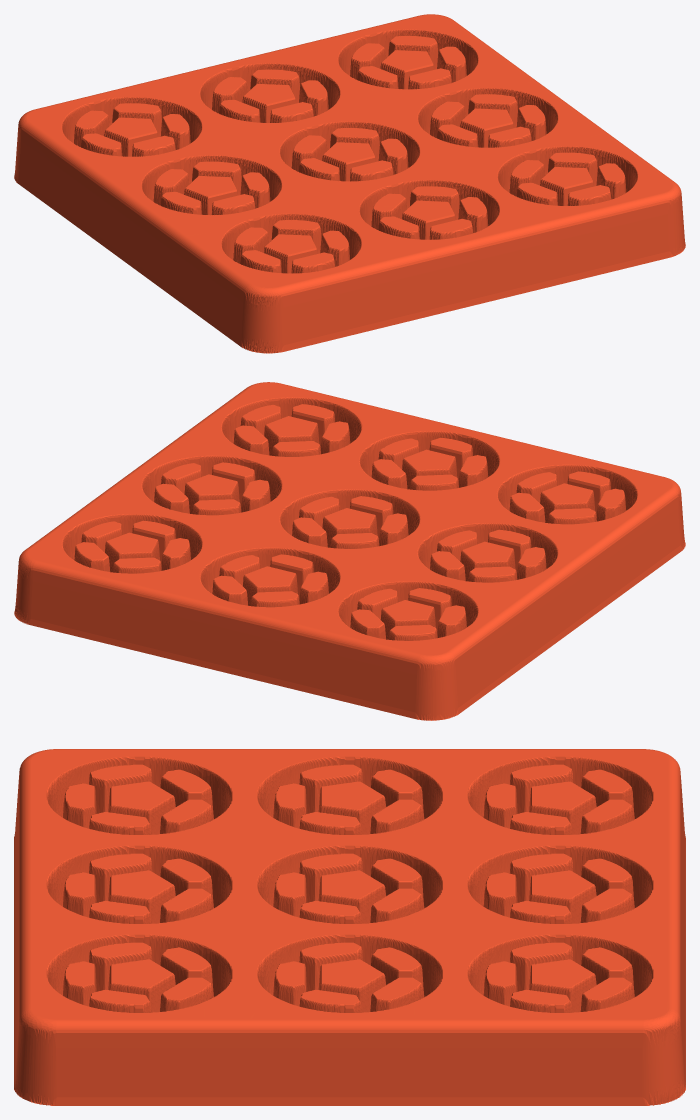
The model's file is mold.glb.
3 views of the same model, one above another, from view 1: azimuth 30°, elevation 25°; view 2: azimuth 150°, elevation 25°; view 3: azimuth 270°, elevation 25° (orthographic). The views are drawn at different scales.
Visible parts, largest first — view 1: geometry_0; view 2: geometry_0; view 3: geometry_0.
Boxes of the visible parts, x1=… form: geometry_0: x1=14, y1=14, x2=685, y2=353; geometry_0: x1=14, y1=382, x2=685, y2=720; geometry_0: x1=14, y1=749, x2=685, y2=1105.
Bounding box in the file's own units: 0.1402 × 0.0182 × 0.1402.
